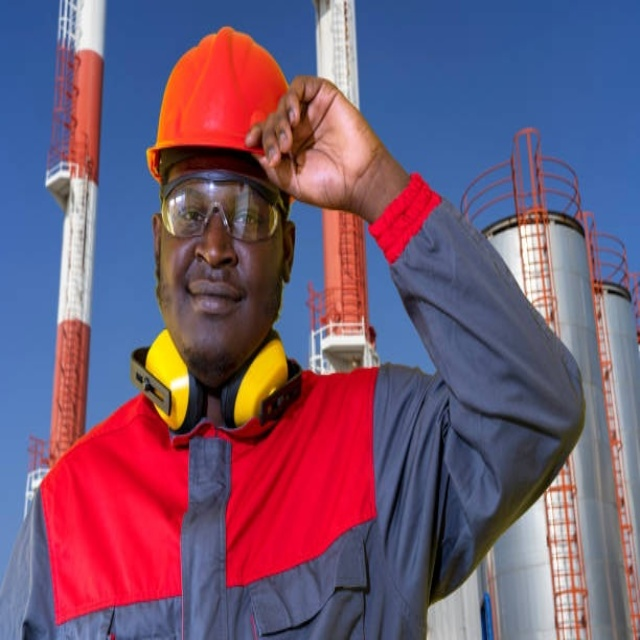Gafas: (157, 174, 287, 242)
Sin_guantes: (246, 71, 392, 217)
Sin_mascara: (179, 259, 249, 342)
